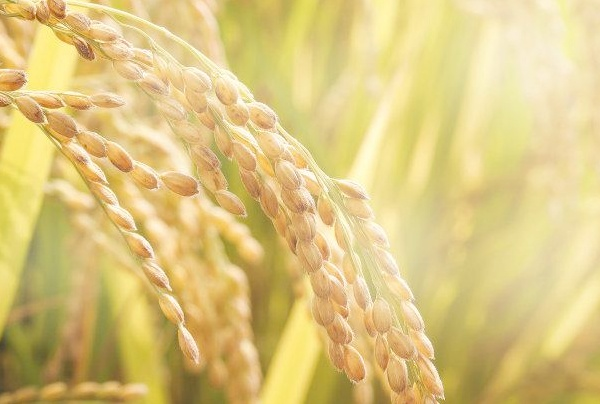rice: (6, 1, 434, 402)
